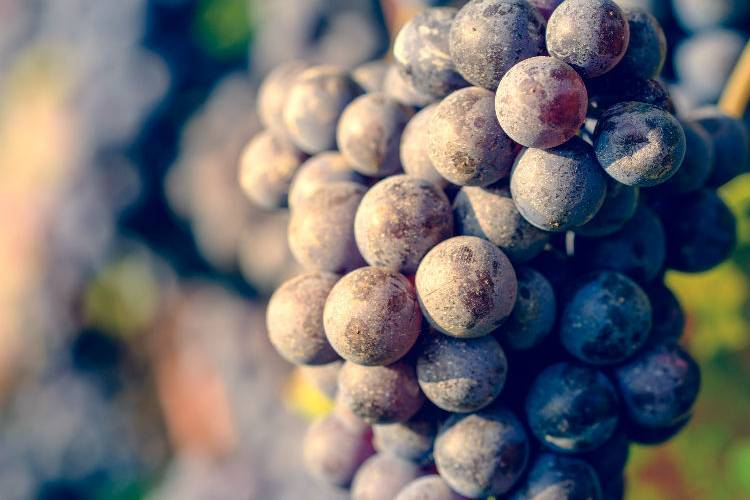Black grapes: (320, 30, 673, 475)
